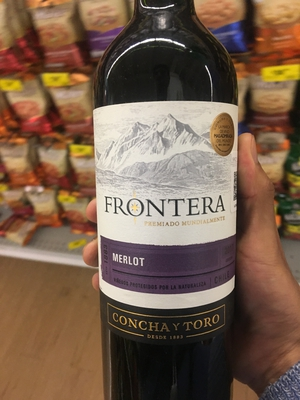frontera merlot: (86, 3, 261, 400)
